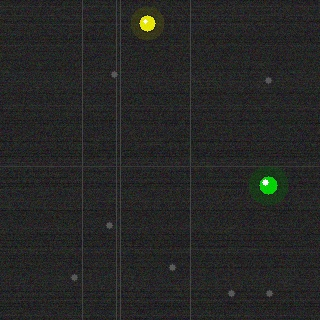green_normal: (257, 174, 279, 196)
yellow_warning: (137, 13, 157, 33)
